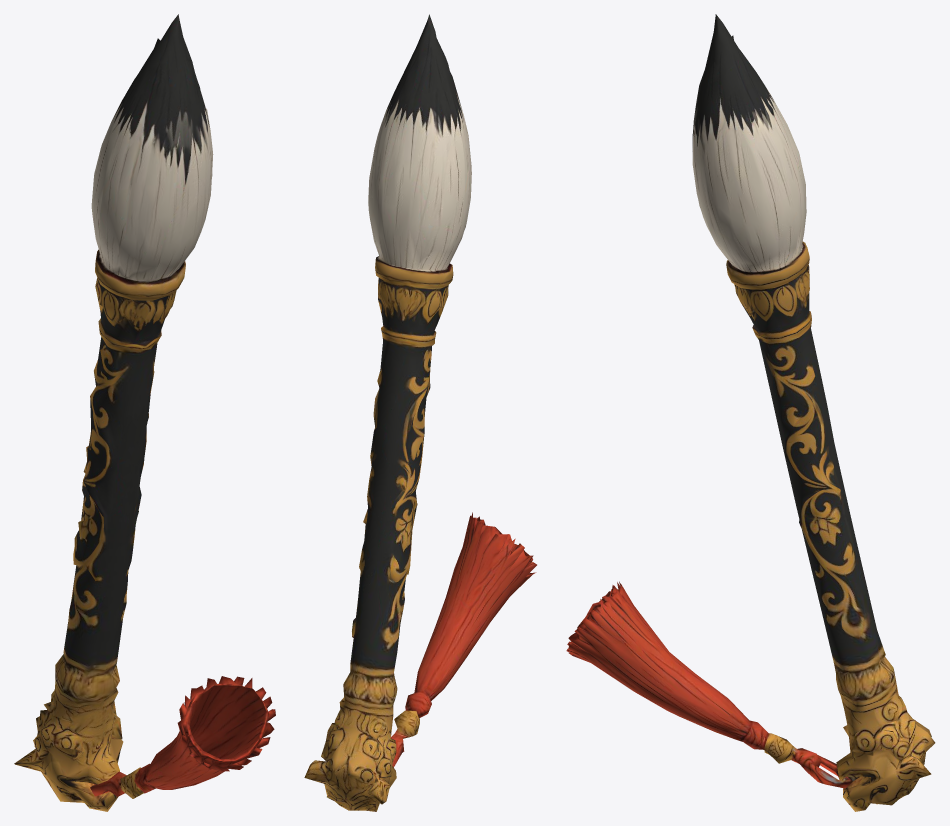
File: brush.glb
3 views of the same model, side by side, from view 1: azimuth 30°, elevation 25°; view 2: azimuth 150°, elevation 25°; view 3: azimuth 270°, elevation 25° (orthographic). The views are drawn at different scales.
Parts seen in each view (by area): view 1: brush; view 2: brush; view 3: brush.
Boxes of the visible parts, <box> form: brush: <box>14,14,275,811</box>; brush: <box>304,14,536,811</box>; brush: <box>566,14,935,811</box>.
Bounding box in the file's own units: 0.034 × 0.2647 × 0.1112.
1 material, 1 textured.
